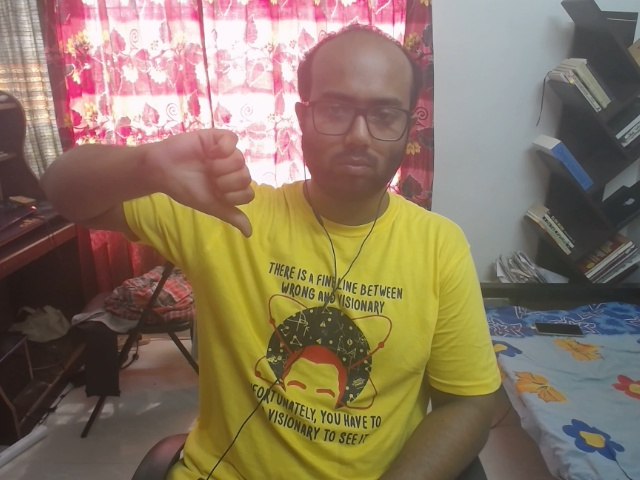nine: (147, 94, 287, 261)
